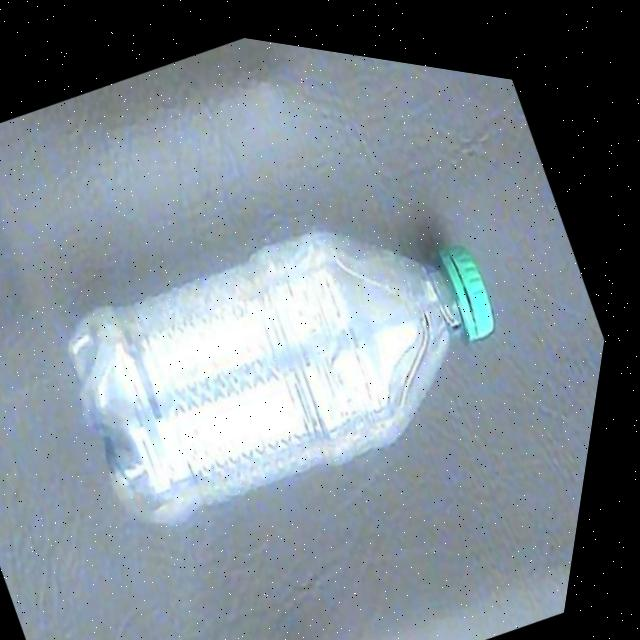sise: (29, 110, 567, 588)
